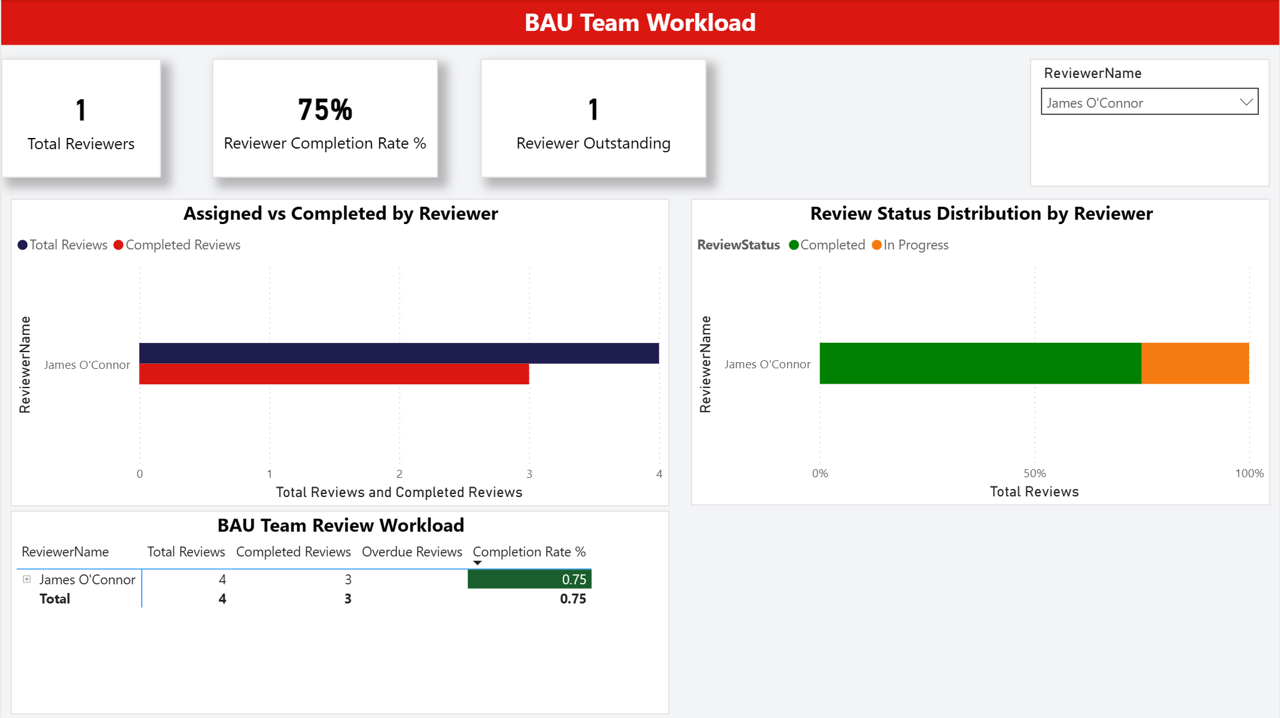

This screenshot's page, from the dashboard's own definition file:
{"tool":"powerbi","page":{"name":"Reviewer Workload","canvas":[1280,720],"ordinal":2},"visuals":[{"type":"card","fields":{"Values":["IAM_UAR_Data.Total Reviewers"]},"box":[0,58.8,160,119.5],"z":0},{"type":"card","fields":{"Values":["IAM_UAR_Data.Reviewer Outstanding"]},"box":[480,58.8,226.2,118.8],"z":1000},{"type":"card","fields":{"Values":["IAM_UAR_Data.Reviewer Completion Rate %"]},"box":[211.2,58.8,226,119],"z":2000},{"type":"clusteredBarChart","title":"Assigned vs Completed by Reviewer","fields":{"Category":["IAM_UAR_Data.ReviewerName"],"Y":["IAM_UAR_Data.Total Reviews","IAM_UAR_Data.Completed Reviews"]},"box":[9.4,198.8,659.5,307.9],"z":3000},{"type":"hundredPercentStackedBarChart","title":"Review Status Distribution by Reviewer","fields":{"Category":["IAM_UAR_Data.ReviewerName"],"Y":["IAM_UAR_Data.Total Reviews"],"Series":["IAM_UAR_Data.ReviewStatus"]},"box":[690.9,198.9,580,307.3],"z":4000},{"type":"pivotTable","title":"BAU Team Review Workload","fields":{"Rows":["IAM_UAR_Data.ReviewerName","IAM_UAR_Data.ReviewerDepartment"],"Values":["IAM_UAR_Data.Total Reviews","IAM_UAR_Data.Completed Reviews","IAM_UAR_Data.Overdue Reviews","IAM_UAR_Data.Completion Rate %"]},"box":[9,511.2,659.9,203.9],"z":5000},{"type":"slicer","fields":{"Values":["IAM_UAR_Data.ReviewerName"]},"box":[1030.4,58.9,240.4,127.6],"z":6000},{"type":"textbox","box":[0,0,1280,45],"z":8000}]}

Visuals, with their boxes in screenshot pixels (x1, y1, x2, y2), scaled from the page's 1280x720 canvas onto the 1280x718 screenshot:
card - IAM_UAR_Data.Total Reviewers: rect(0, 59, 160, 178)
card - IAM_UAR_Data.Reviewer Outstanding: rect(480, 59, 706, 177)
card - IAM_UAR_Data.Reviewer Completion Rate %: rect(211, 59, 437, 177)
"Assigned vs Completed by Reviewer" clusteredBarChart: rect(9, 198, 669, 505)
"Review Status Distribution by Reviewer" hundredPercentStackedBarChart: rect(691, 198, 1271, 505)
"BAU Team Review Workload" pivotTable: rect(9, 510, 669, 713)
slicer - IAM_UAR_Data.ReviewerName: rect(1030, 59, 1271, 186)
textbox: rect(0, 0, 1279, 45)
